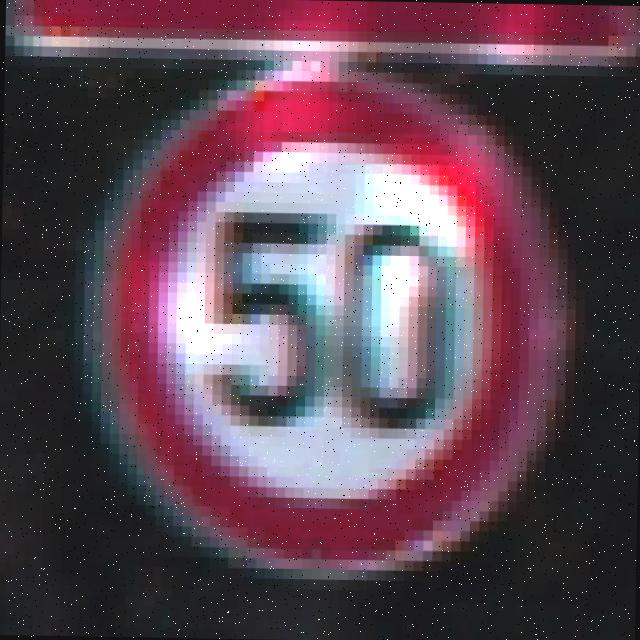Ograniczenie predkosci do 50: (101, 65, 550, 568)
